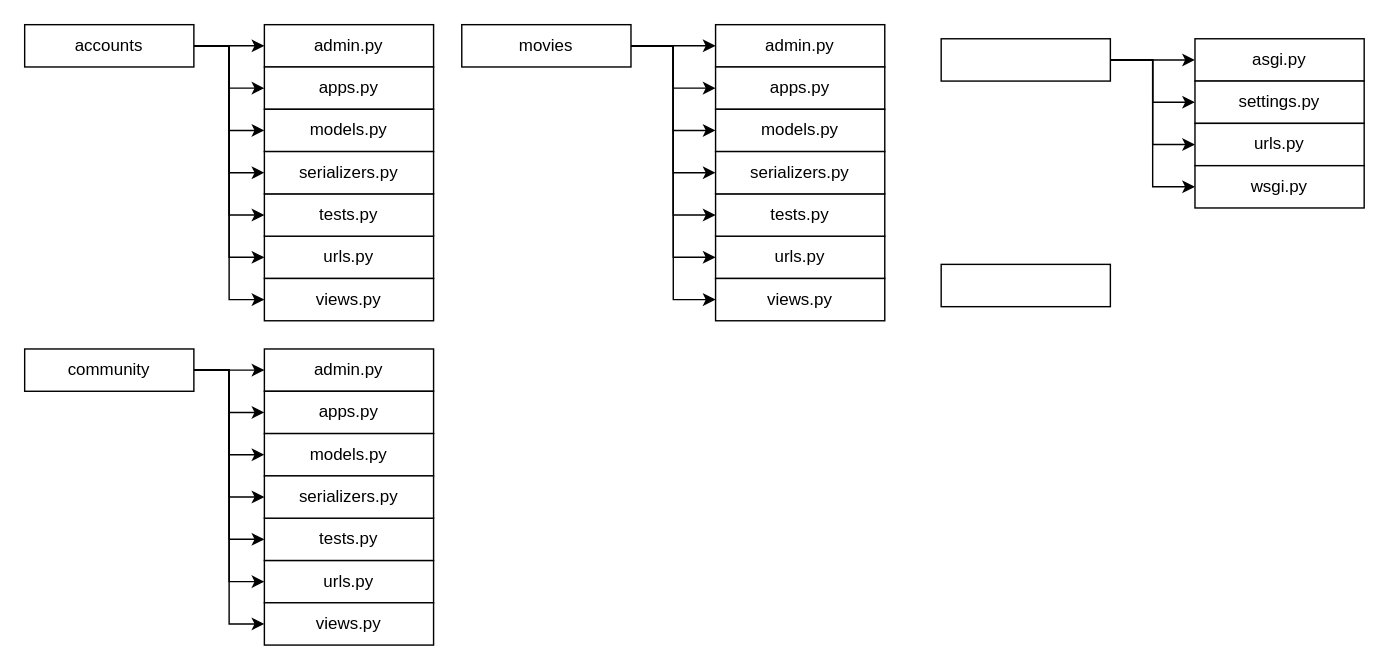
The diagram is 1389 pixels wide and 670 high, and some of its shapes have lost their labels. The centre of each missing label's shape, as x and y in pixels:
"manage.py" goes at (1025,285).
"server" goes at (1025,59).
